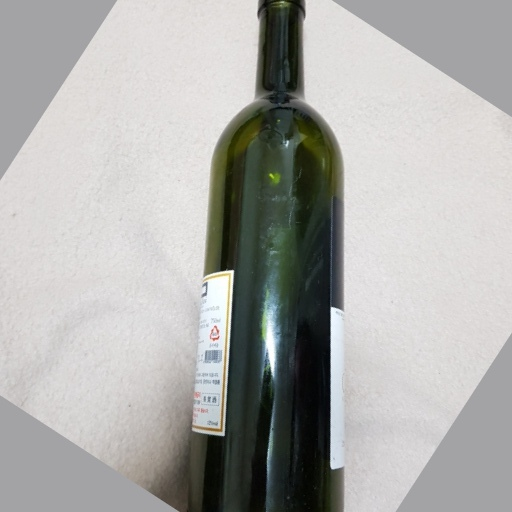Glass_2: (176, 1, 359, 512)
